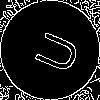U: (25, 25, 82, 77)
